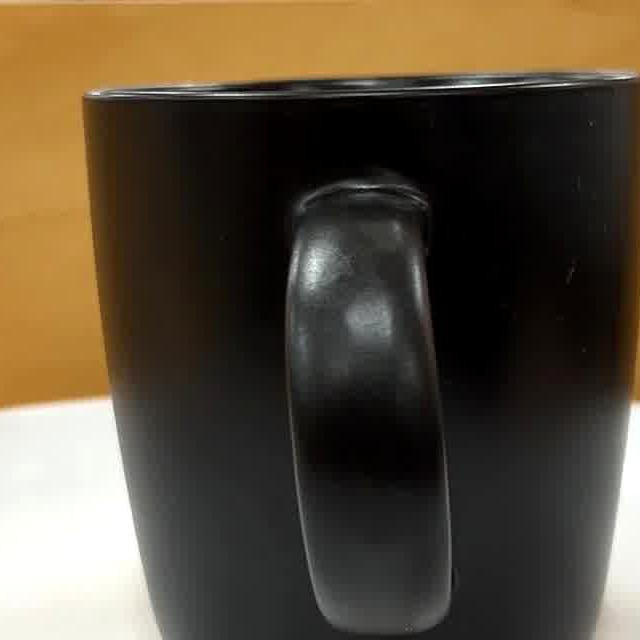cup: (89, 80, 640, 640)
